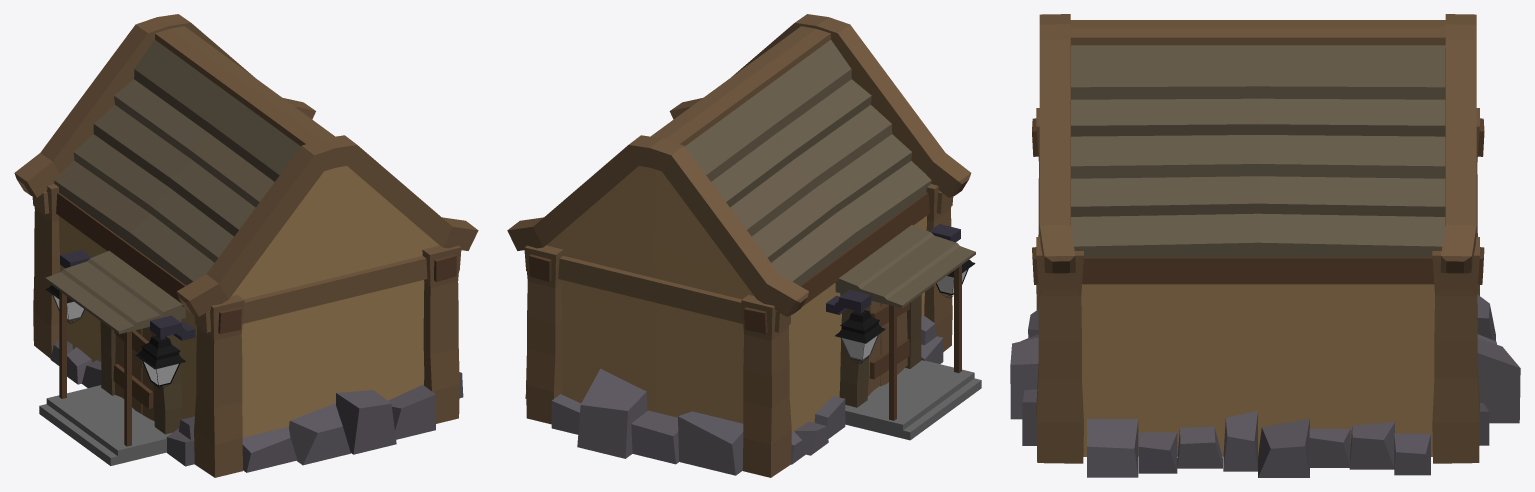
The model's file is casa1.fbx.
3 views of the same model, side by side, from view 1: azimuth 30°, elevation 25°; view 2: azimuth 150°, elevation 25°; view 3: azimuth 270°, elevation 25° (orthographic). The views are drawn at different scales.
Parts seen in each view (by area): view 1: casa, porta, pedras.010, madeira porta, porta.007, negocinho feio.012, negocinho feio.010; view 2: casa, porta, pedras.010, madeira porta, porta.007, negocinho feio.017, negocinho feio.015; view 3: casa, pedras.010.
Boxes of the visible parts, box(x1,y1,x2,y2) form: casa: box(14, 14, 478, 477); porta: box(39, 250, 185, 465); pedras.010: box(50, 339, 463, 472); madeira porta: box(100, 321, 182, 434); porta.007: box(113, 327, 154, 420); negocinho feio.012: box(135, 335, 185, 369); negocinho feio.010: box(150, 315, 195, 340); casa: box(507, 14, 971, 477); porta: box(835, 225, 981, 440); pedras.010: box(525, 315, 943, 475); madeira porta: box(839, 294, 921, 407); porta.007: box(868, 301, 909, 395); negocinho feio.017: box(835, 310, 885, 343); negocinho feio.015: box(826, 289, 871, 314); casa: box(1032, 14, 1484, 463); pedras.010: box(1010, 294, 1520, 477).
Size of the model in its own units: 3948 by 3371 by 4247.
